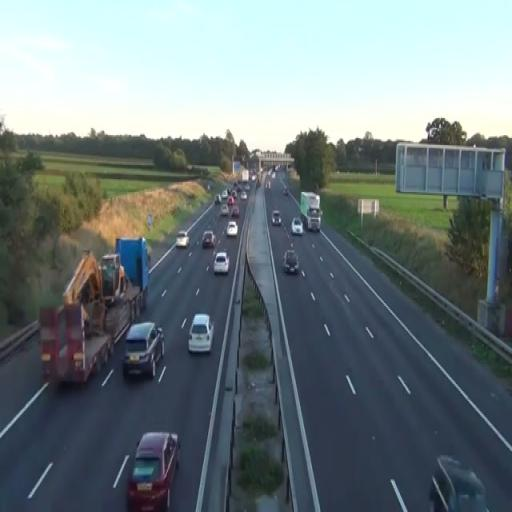Car: (126, 432, 180, 511), (428, 454, 490, 512), (122, 321, 165, 380), (188, 312, 214, 355), (282, 249, 300, 274), (213, 251, 230, 275), (175, 230, 190, 249), (290, 217, 304, 237), (202, 230, 216, 249), (226, 220, 238, 238), (272, 210, 282, 227)
Truck: (38, 235, 148, 389), (121, 320, 165, 380), (300, 192, 321, 232)
